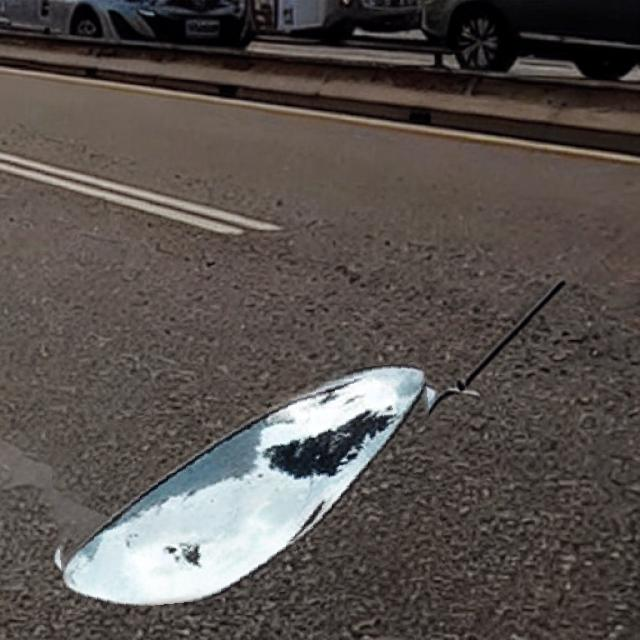puddle: (50, 372, 442, 605)
